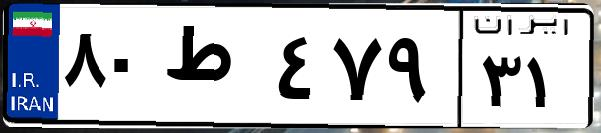0: (110, 28, 158, 98)
1: (525, 38, 570, 115)
3: (475, 38, 525, 113)
4: (270, 28, 330, 110)
7: (330, 28, 385, 110)
8: (57, 26, 110, 100)
9: (385, 28, 445, 110)
ط: (158, 20, 270, 120)
